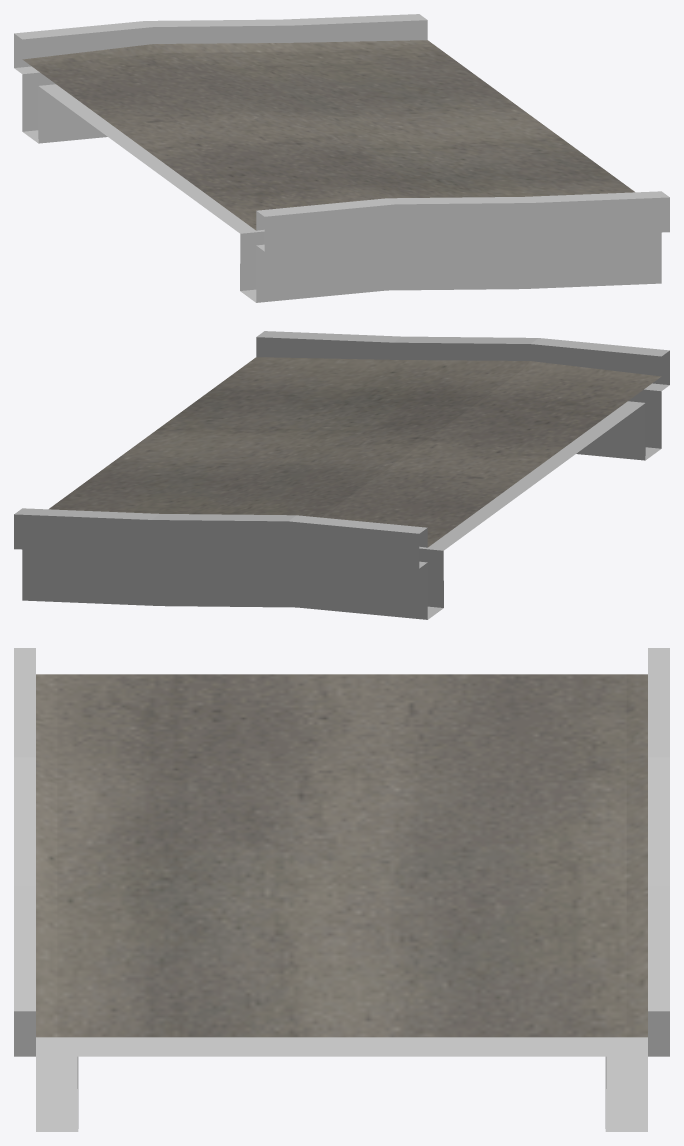
File: Urban_Road3BridgeRampNoSides_Model.fbx
The picture shows the model from 3 angles, top to bottom: view 1: azimuth 30°, elevation 25°; view 2: azimuth 150°, elevation 25°; view 3: azimuth 270°, elevation 25°; orthographic projection. The views are drawn at different scales.
Visible parts, largest first — view 1: Urban_Road3BridgeRampNoSides_Mesh; view 2: Urban_Road3BridgeRampNoSides_Mesh; view 3: Urban_Road3BridgeRampNoSides_Mesh.
Boxes of the visible parts, x1,y1,x2,y2 form: Urban_Road3BridgeRampNoSides_Mesh: (14,14,669,302); Urban_Road3BridgeRampNoSides_Mesh: (14,331,669,619); Urban_Road3BridgeRampNoSides_Mesh: (14,648,669,1131).
Bounding box in the file's own units: 16 × 6.48 × 17.13.
